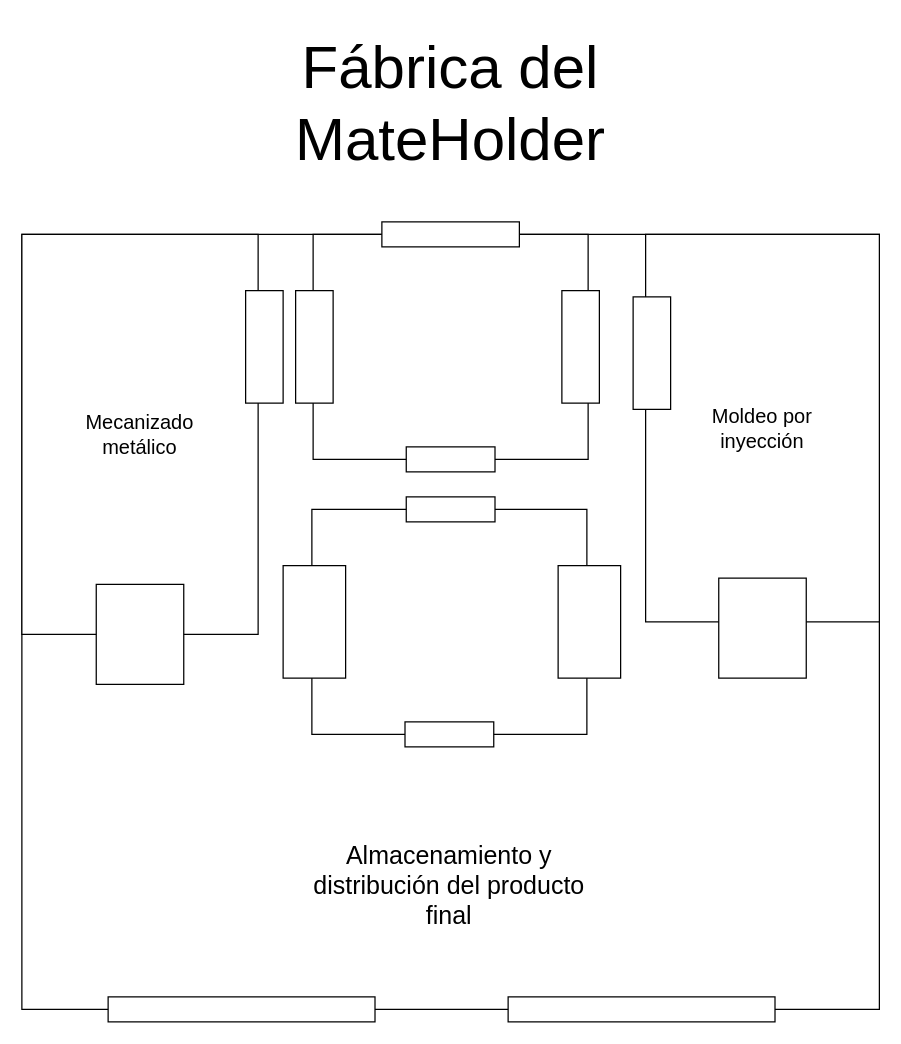
Image size: 901x1044. Some labels were removed from this diagram. The shapes that lost their labels are listed below. From the top down, each one's box as (x1, y1, x2, y2) in pixels, then its label:
(312, 233, 588, 459): Adquisición y almacenamiento de materia prima
(311, 508, 587, 734): Ensamblaje y control de calidad
